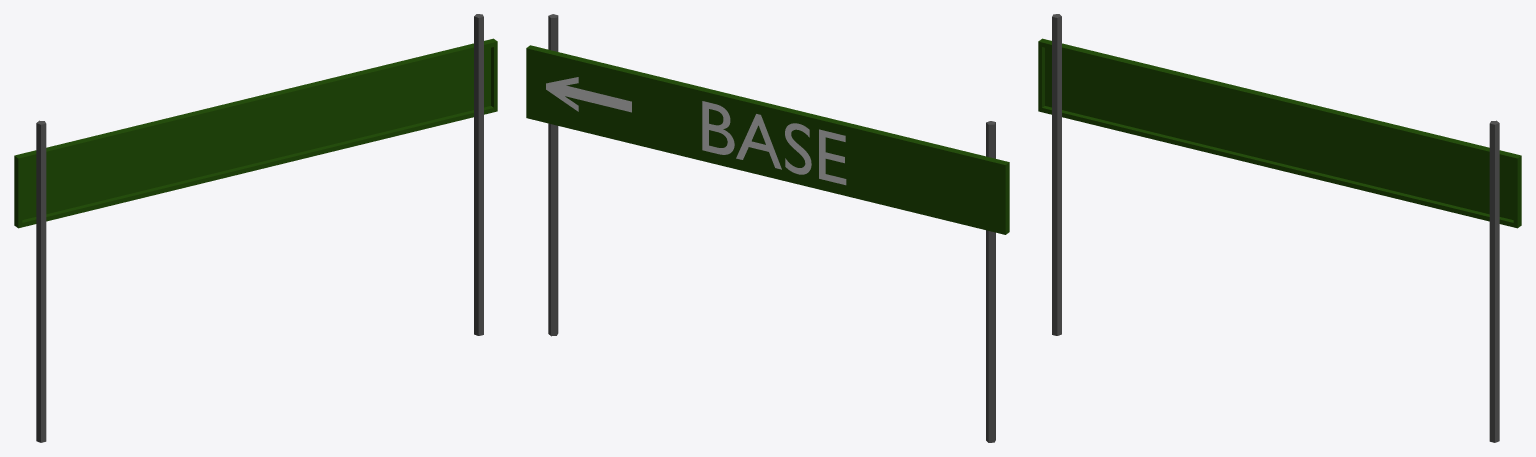
3 views of the same model, side by side, from view 1: azimuth 30°, elevation 25°; view 2: azimuth 150°, elevation 25°; view 3: azimuth 330°, elevation 25° (orthographic).
Parts seen in each view (by area): view 1: Plane.002, Cylinder.011; view 2: Plane.002, Cylinder.011, Text, Text.002; view 3: Plane.002, Cylinder.011.
Boxes of the visible parts, x1,y1,x2,y2 form: Plane.002: (14, 38, 497, 228); Cylinder.011: (36, 14, 483, 442); Plane.002: (526, 45, 1009, 234); Cylinder.011: (548, 14, 995, 442); Text: (702, 101, 846, 185); Text.002: (552, 82, 631, 112); Plane.002: (1038, 38, 1521, 228); Cylinder.011: (1052, 14, 1499, 442).
Bounding box in the file's own units: 2496 × 1583 × 79.06.
